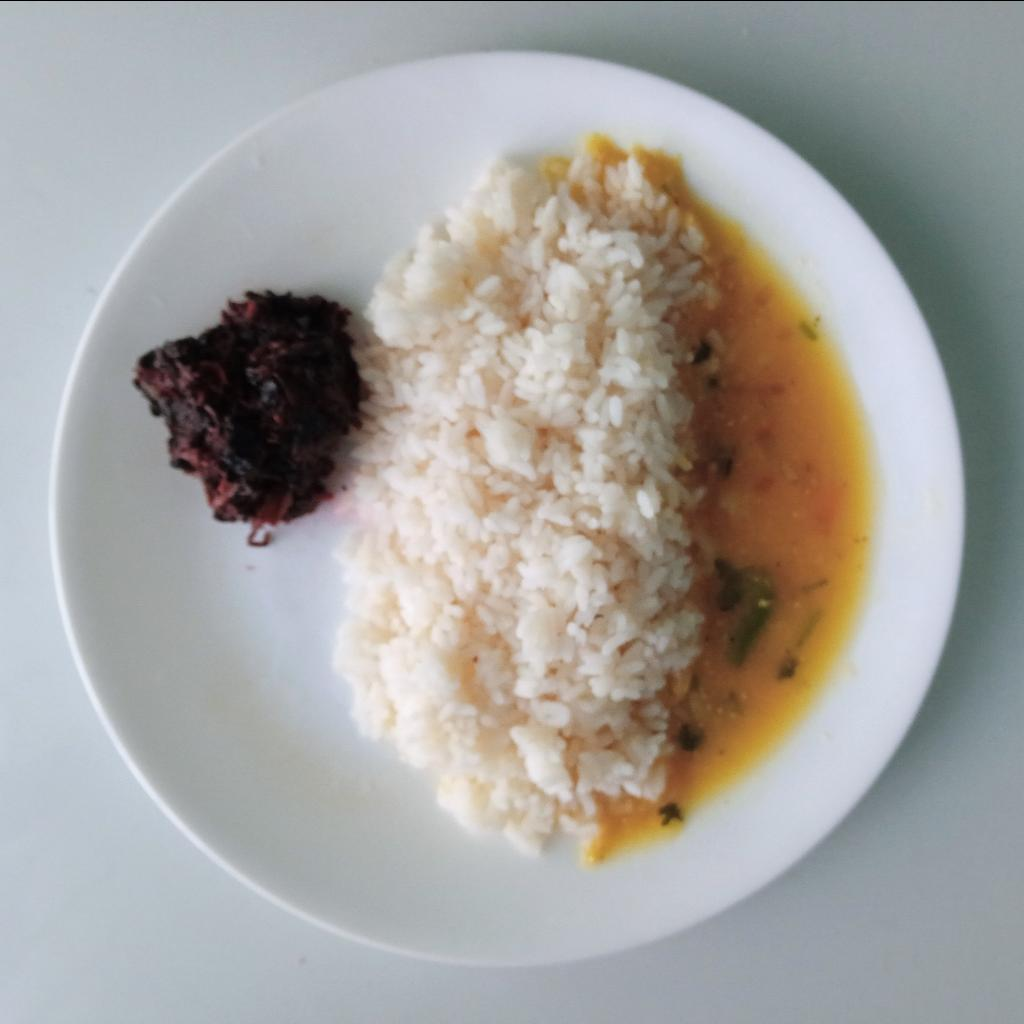daal: (643, 158, 866, 813)
rice: (329, 153, 691, 856)
shak: (138, 289, 356, 525)
